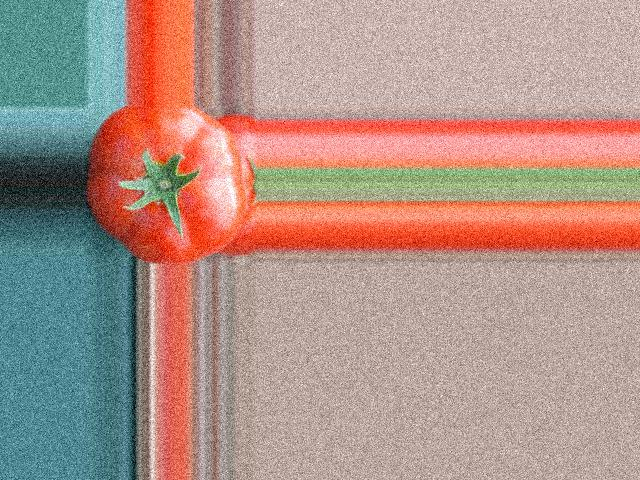tomato: (87, 105, 246, 265)
